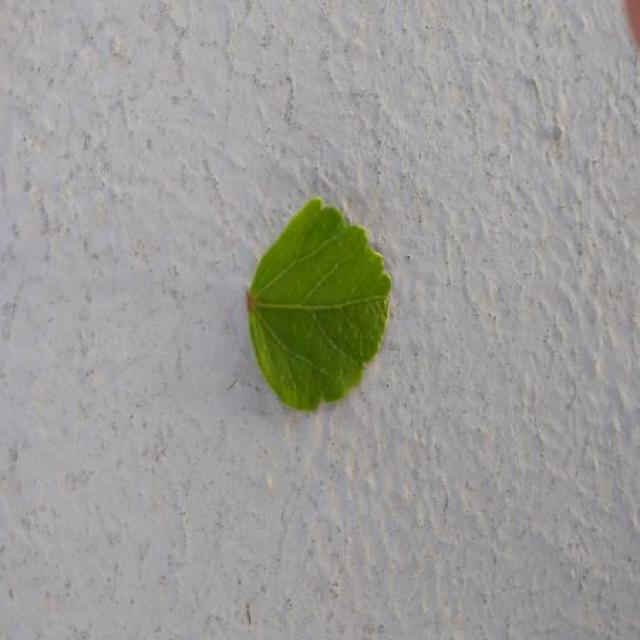Hibiscus: (247, 198, 392, 410)
